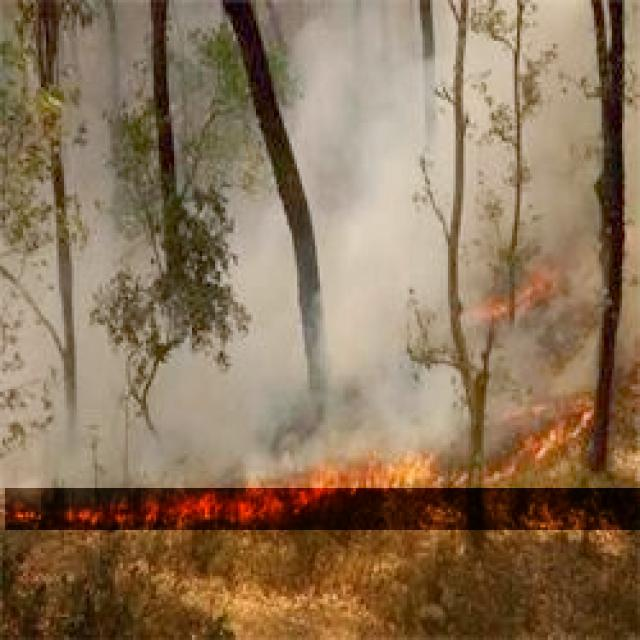Fire: (5, 386, 640, 530), (474, 270, 554, 324)
Smoke: (0, 0, 640, 488)
